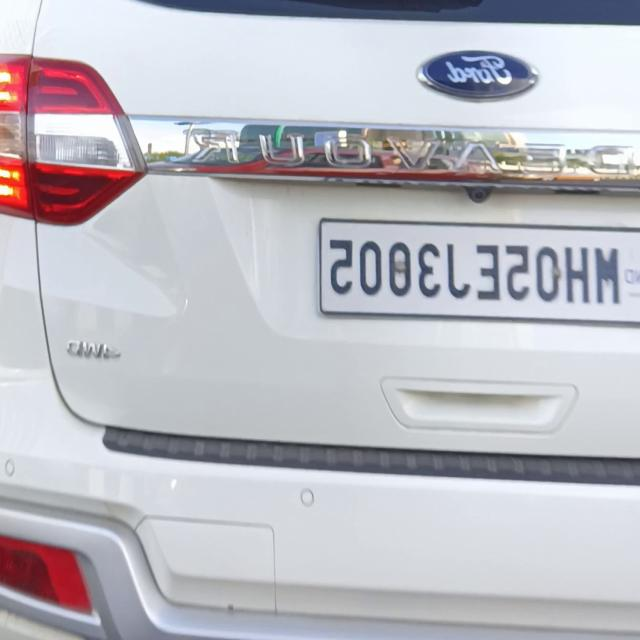license_plate: (312, 215, 640, 332)
